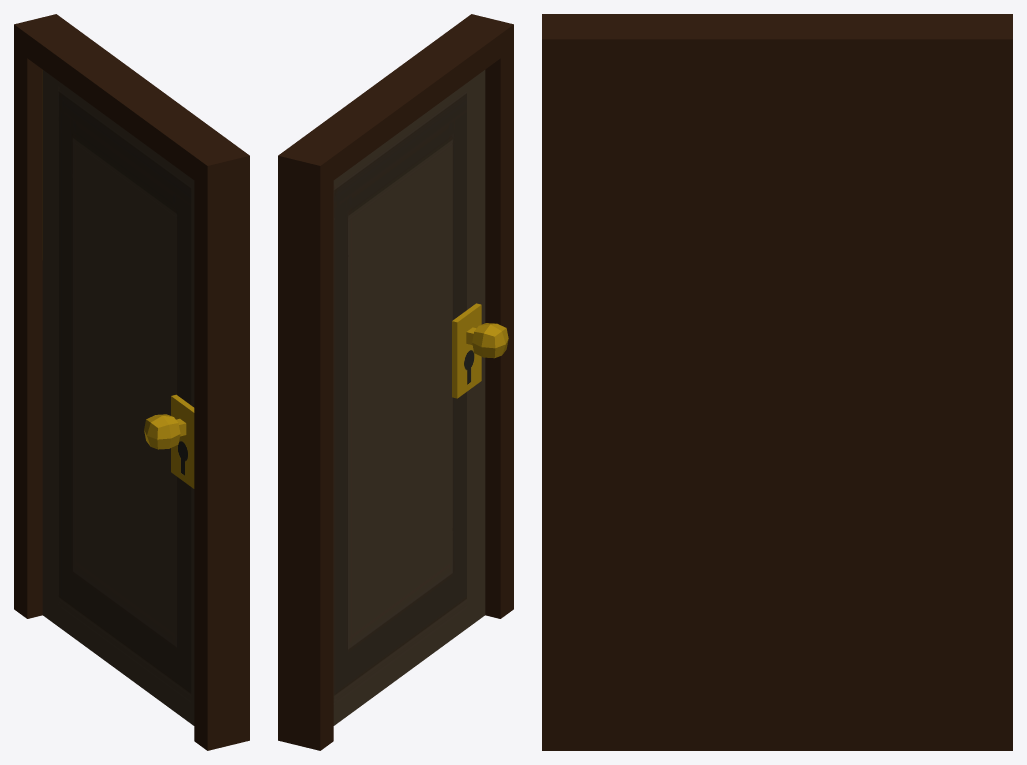
File: Door.glb
The picture shows the model from 3 angles, left to right: view 1: azimuth 30°, elevation 25°; view 2: azimuth 150°, elevation 25°; view 3: azimuth 270°, elevation 25°; orthographic projection. The views are drawn at different scales.
Parts seen in each view (by area): view 1: Cube; view 2: Cube; view 3: Cube.
Part boxes in pixels (x1,y1,x2,y2): Cube: [14, 14, 249, 750]; Cube: [278, 14, 513, 750]; Cube: [542, 14, 1012, 750].
Size of the model in its own units: 4.45 by 36.22 by 21.72.
Materials: 1 (1 with a texture image).
